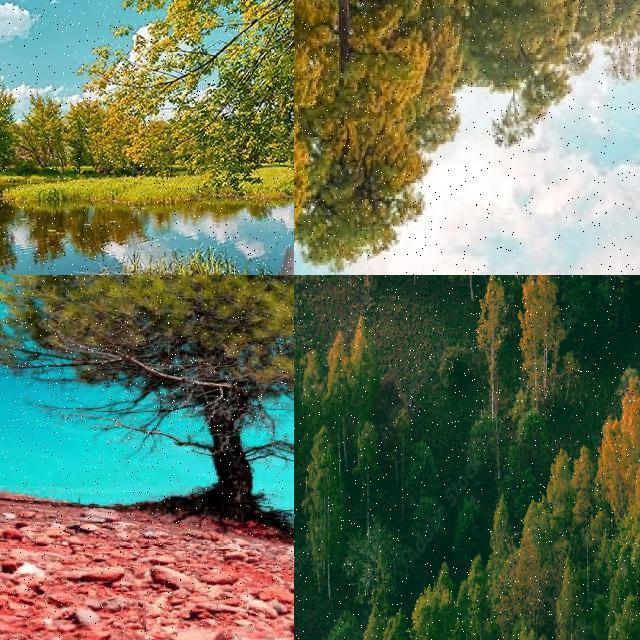tree: (0, 274, 294, 526), (62, 0, 294, 196), (301, 1, 425, 276), (294, 1, 396, 276), (294, 0, 372, 232), (388, 0, 480, 156), (465, 0, 581, 114), (5, 89, 110, 167), (302, 419, 346, 596), (347, 514, 409, 618), (0, 64, 60, 170), (520, 276, 564, 420), (474, 274, 510, 438), (600, 370, 640, 514), (294, 301, 318, 533), (0, 52, 42, 172), (294, 447, 316, 638), (571, 446, 597, 606), (410, 438, 444, 554), (0, 83, 44, 167), (599, 0, 640, 83), (525, 274, 577, 334), (369, 275, 406, 359), (411, 571, 455, 640), (548, 446, 576, 550), (320, 276, 360, 348), (509, 274, 551, 342), (457, 555, 489, 640), (294, 292, 314, 428), (352, 316, 378, 416), (330, 328, 354, 428), (552, 556, 580, 640), (596, 275, 632, 333), (452, 275, 486, 335), (600, 590, 640, 640), (596, 276, 624, 344), (304, 346, 328, 422), (355, 607, 409, 640), (490, 494, 514, 564), (294, 276, 318, 340), (294, 276, 314, 352), (400, 275, 424, 325), (294, 538, 306, 634), (352, 274, 376, 322), (294, 450, 306, 538), (294, 276, 312, 328), (294, 276, 314, 316), (632, 530, 640, 594)
